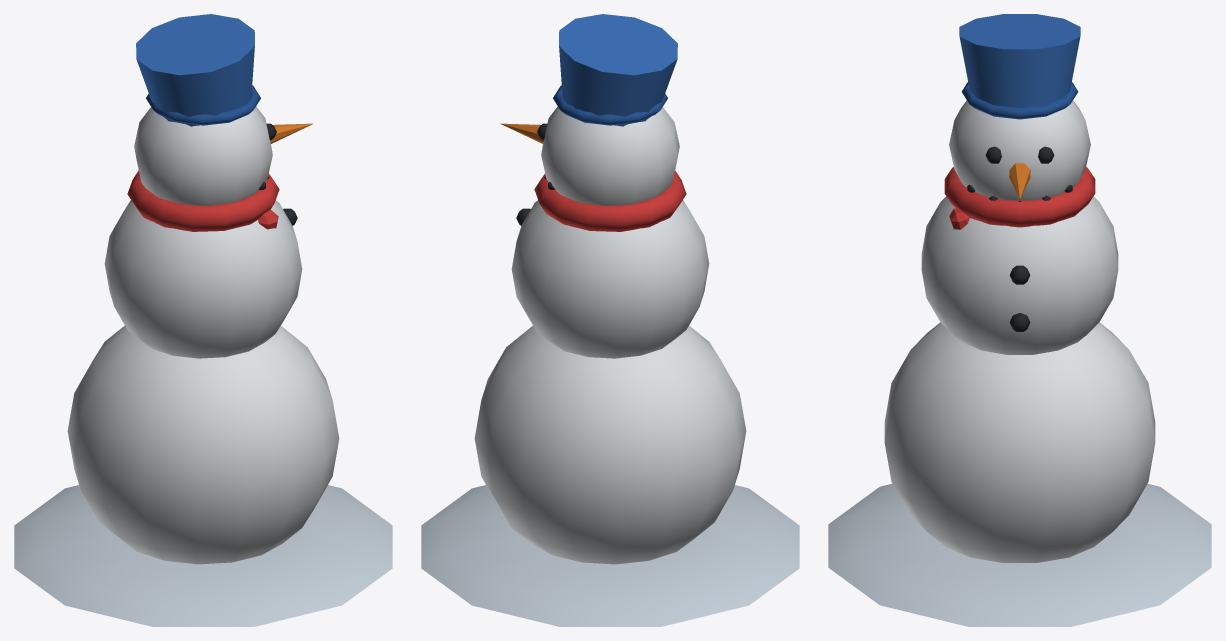
File: ice-deco2.glb
The picture shows the model from 3 angles, left to right: view 1: azimuth 30°, elevation 25°; view 2: azimuth 150°, elevation 25°; view 3: azimuth 270°, elevation 25°; orthographic projection.
Visible parts, largest first — view 1: ice-deco2; view 2: ice-deco2; view 3: ice-deco2.
Part boxes in pixels (x1,y1,x2,y2): ice-deco2: (14,14,392,626); ice-deco2: (421,14,799,626); ice-deco2: (828,14,1211,626).
Size of the model in its own units: 1.84 by 2.8 by 1.84.
